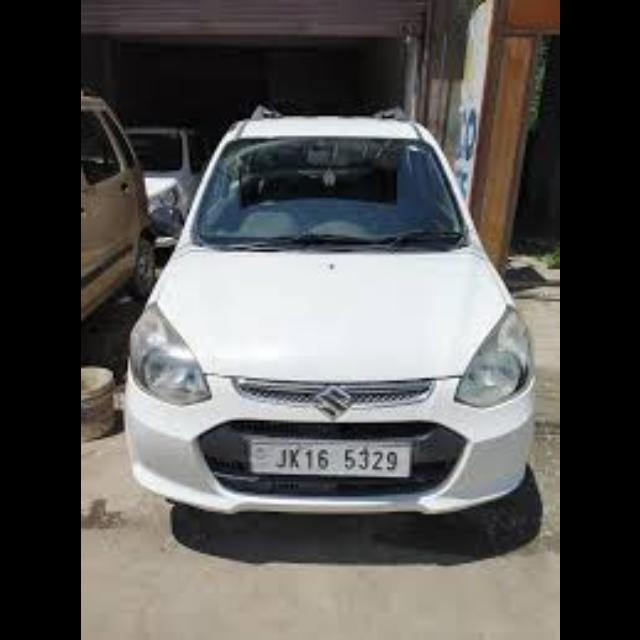number-plate: (249, 438, 412, 475)
vehicles: (110, 109, 540, 532), (127, 124, 204, 225)
